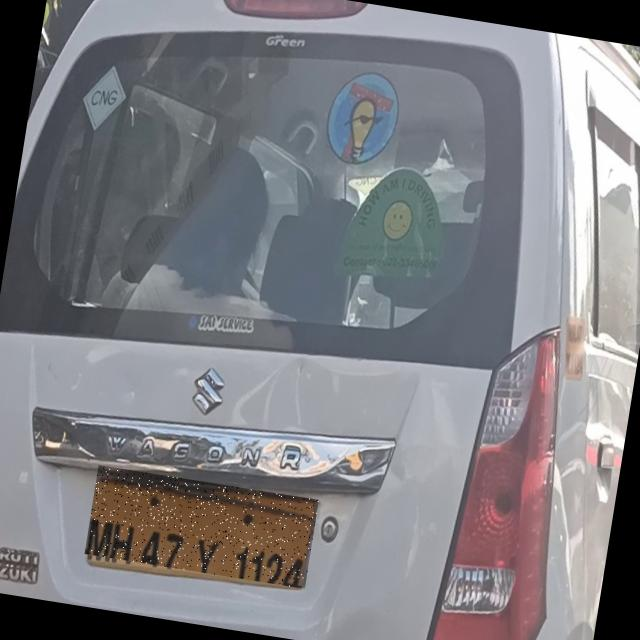Plate: (86, 466, 320, 590)
